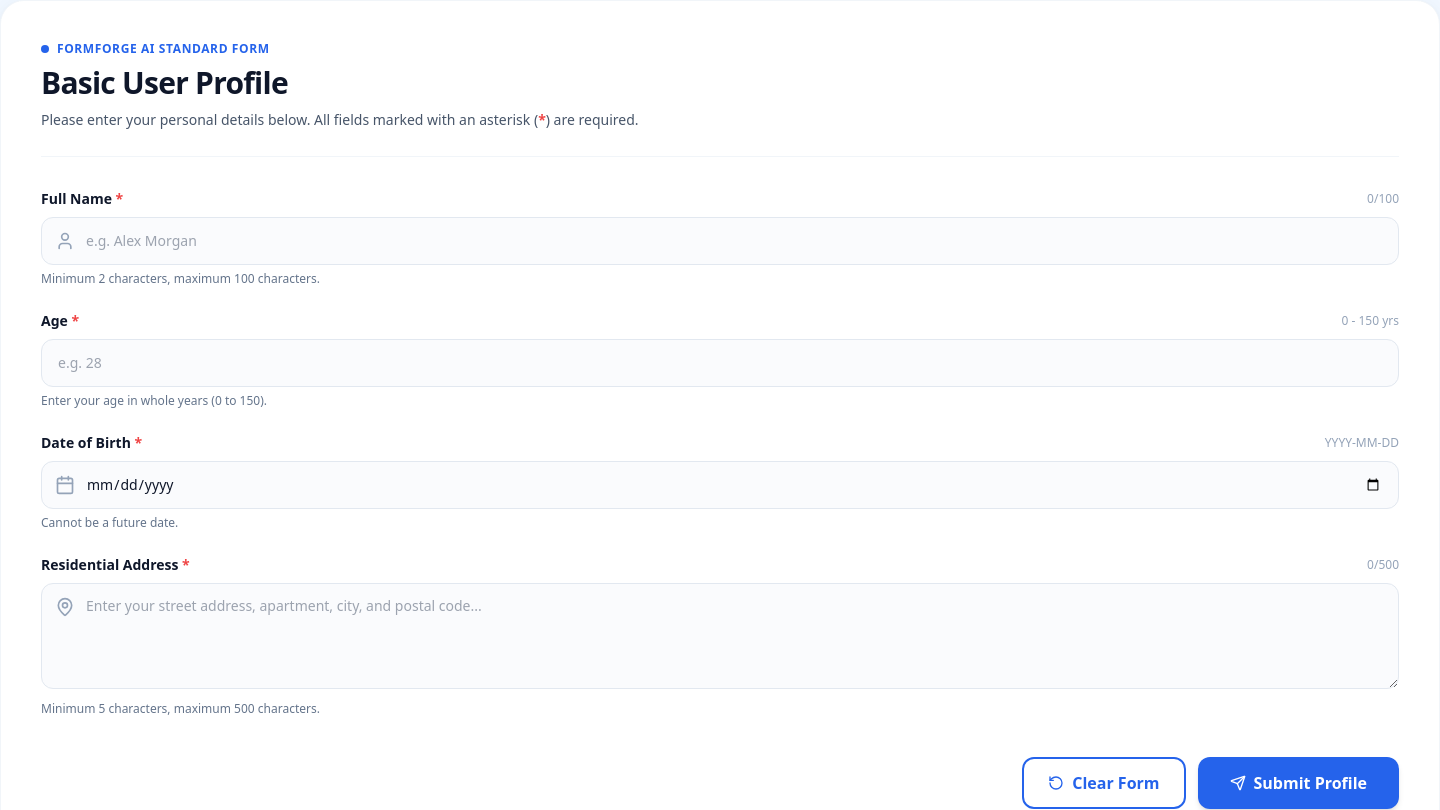
Test case: UserProfileForm Component Tests › displays validation errors and sets aria-invalid when submitted empty
This screenshot has width=1440, height=810.
Click the button "Submit Profile".
click(1298, 783)  # box [1198,757,1399,809]
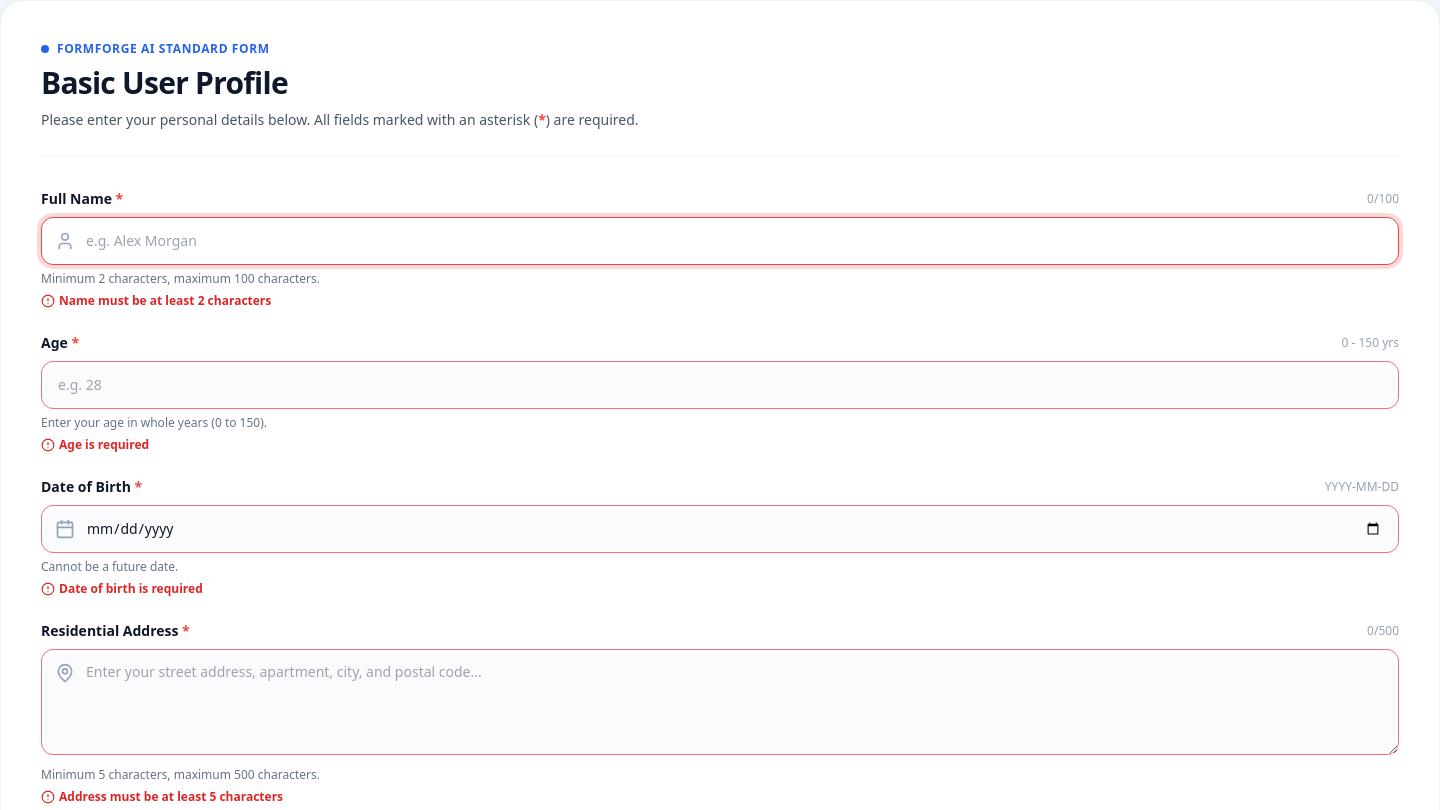
Expected: the text "Name must be at least 2 characters" is shown, [41,292,271,309]
Expected: the text "Age is required" is shown, [41,436,149,453]
Expected: the text "Date of birth is required" is shown, [41,580,203,597]
